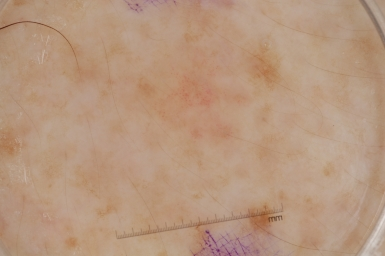seborrheic keratosis: (137, 36, 261, 160)
